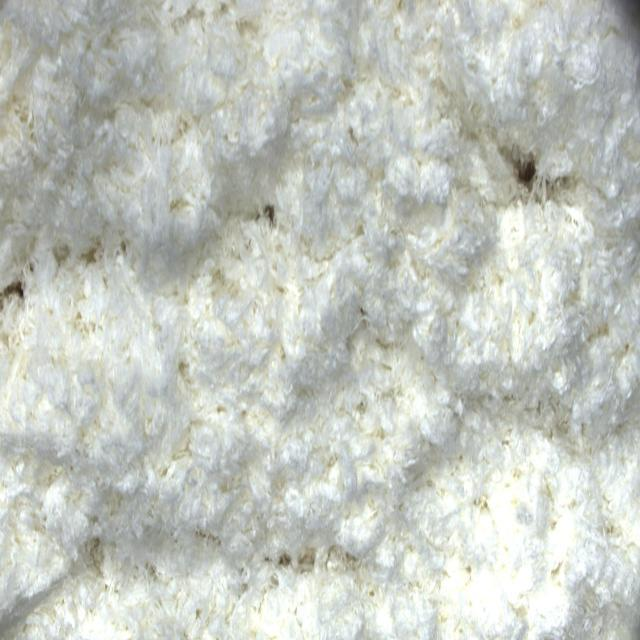dust: (507, 144, 568, 215), (260, 199, 282, 242), (4, 275, 26, 314)
